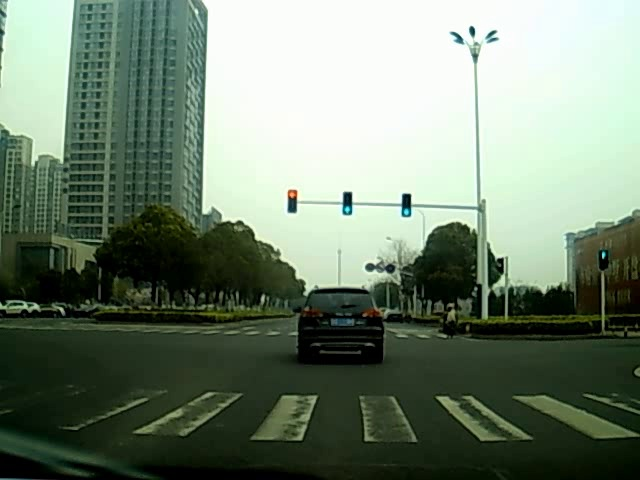Traffic_Light_go: (342, 192, 352, 217), (402, 193, 411, 218)
Traffic_Light_stop: (286, 190, 298, 213)
